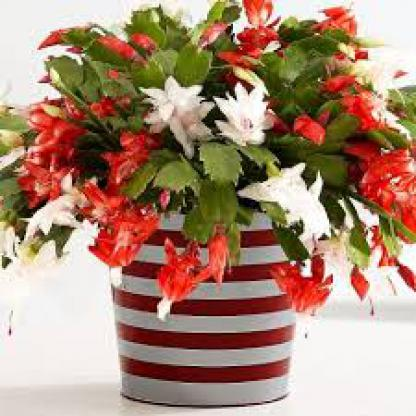Aglonema: (66, 109, 356, 310)
